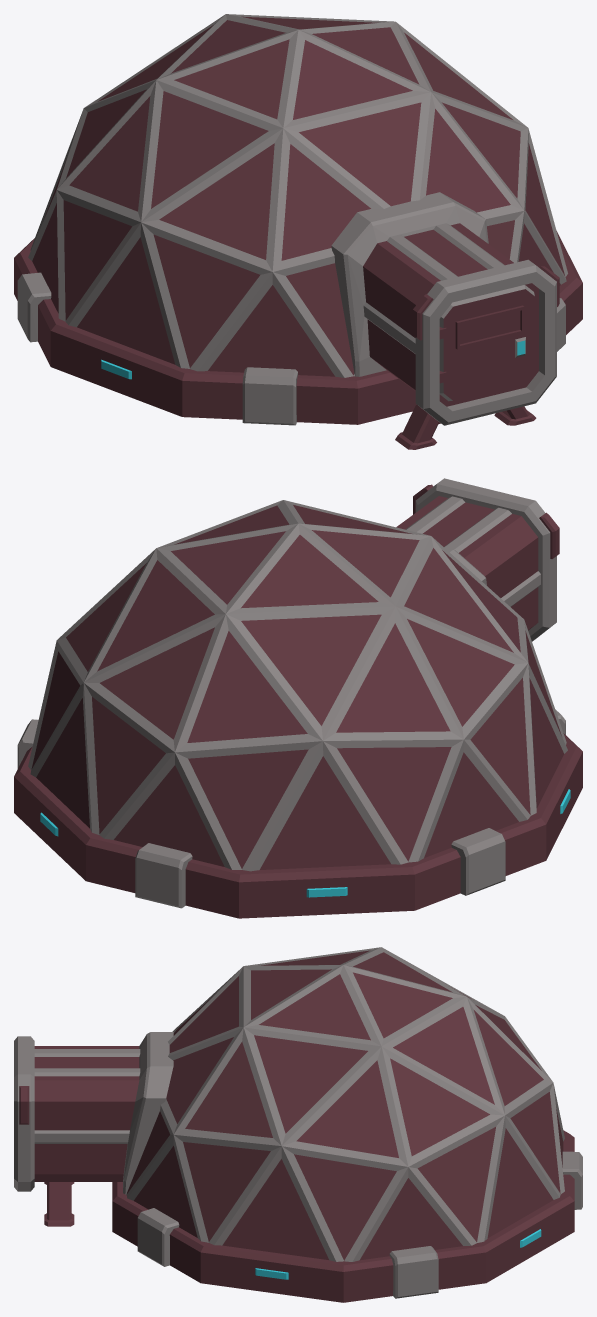
Rendered from scifi-planet-base-greenhouse.fbx.
3 views of the same model, one above another, from view 1: azimuth 30°, elevation 25°; view 2: azimuth 150°, elevation 25°; view 3: azimuth 270°, elevation 25° (orthographic). The views are drawn at different scales.
Visible parts, largest first — view 1: scifi-planet-base-greenhouse; view 2: scifi-planet-base-greenhouse; view 3: scifi-planet-base-greenhouse.
Part boxes in pixels (x1,y1,x2,y2): scifi-planet-base-greenhouse: (14, 14, 582, 449); scifi-planet-base-greenhouse: (14, 478, 582, 918); scifi-planet-base-greenhouse: (14, 947, 582, 1302).
Size of the model in its own units: 11.8 by 6.3 by 13.81.
